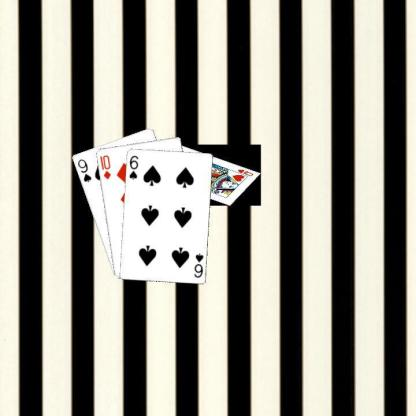10D: (97, 152, 112, 180)
6S: (191, 251, 205, 278), (127, 152, 139, 181)
9S: (75, 157, 93, 183)
